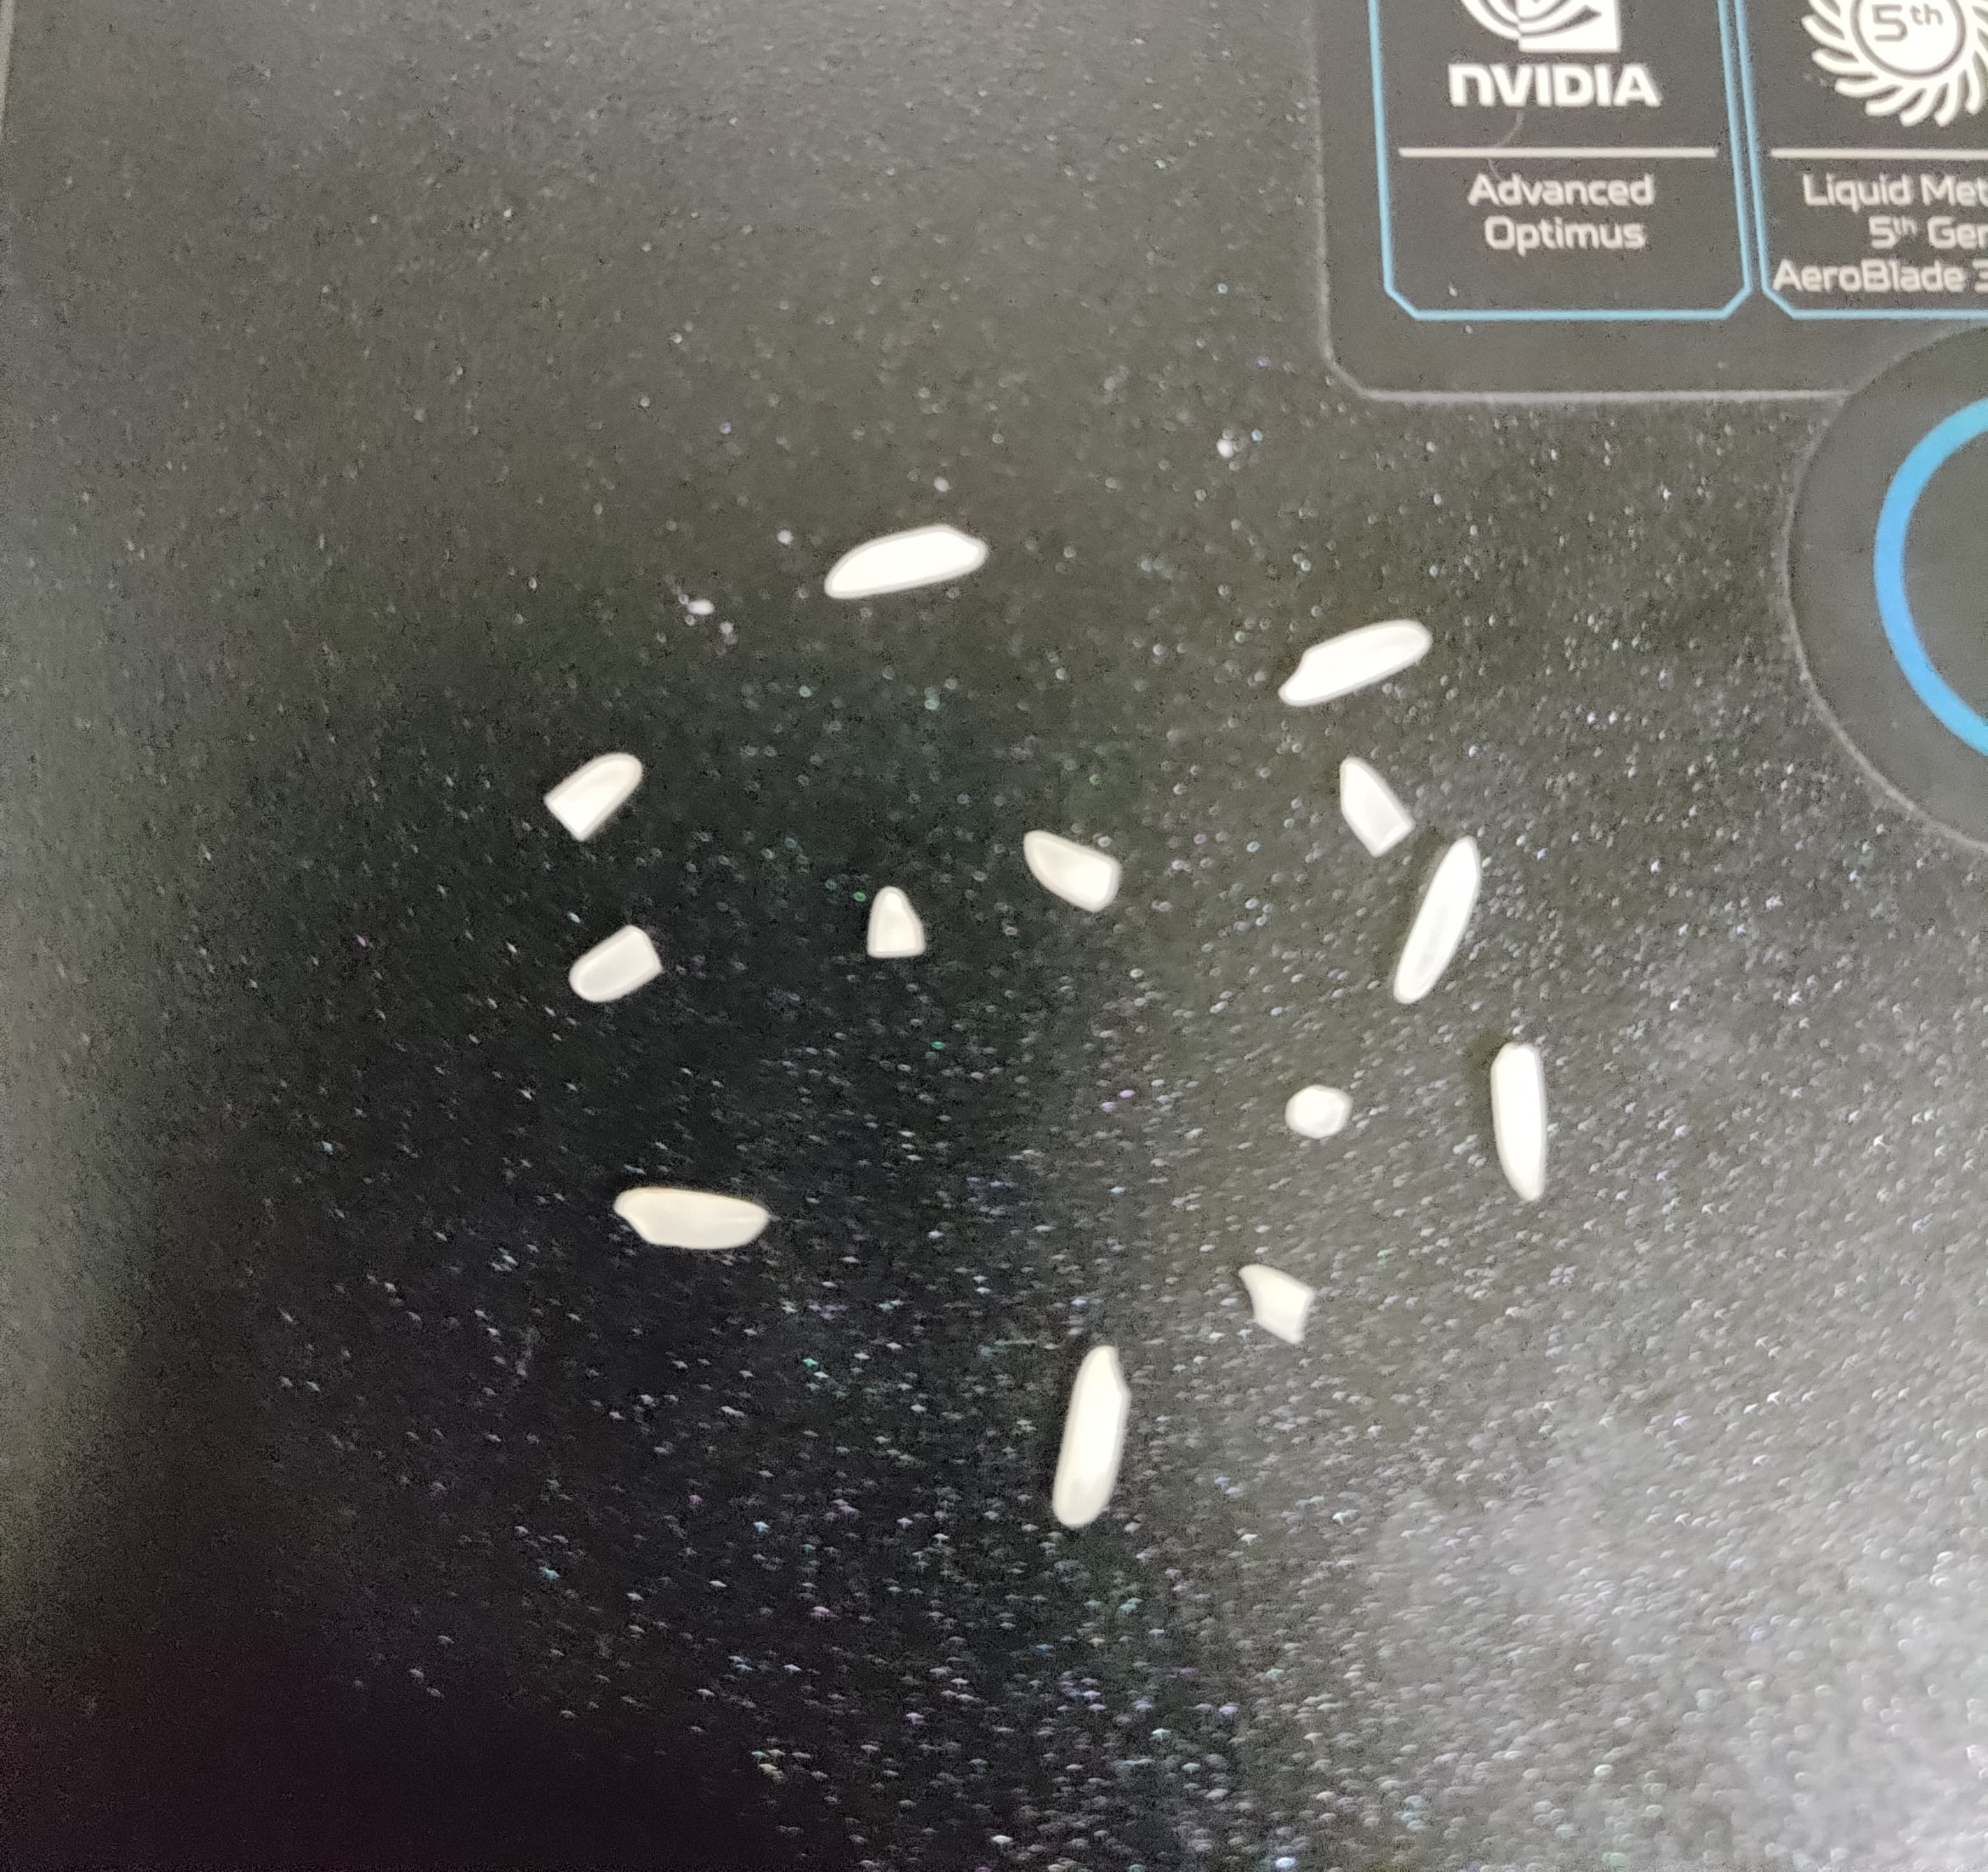broken_grain: (532, 742, 652, 850), (554, 912, 680, 1018), (1020, 812, 1132, 922), (1327, 745, 1420, 867), (1227, 1256, 1331, 1363), (858, 878, 940, 965), (1278, 1073, 1365, 1151)
complete_grain: (1258, 603, 1436, 718), (1382, 829, 1500, 1001), (1051, 1325, 1136, 1545), (814, 516, 1003, 609), (1482, 1031, 1569, 1223), (605, 1181, 780, 1265)
